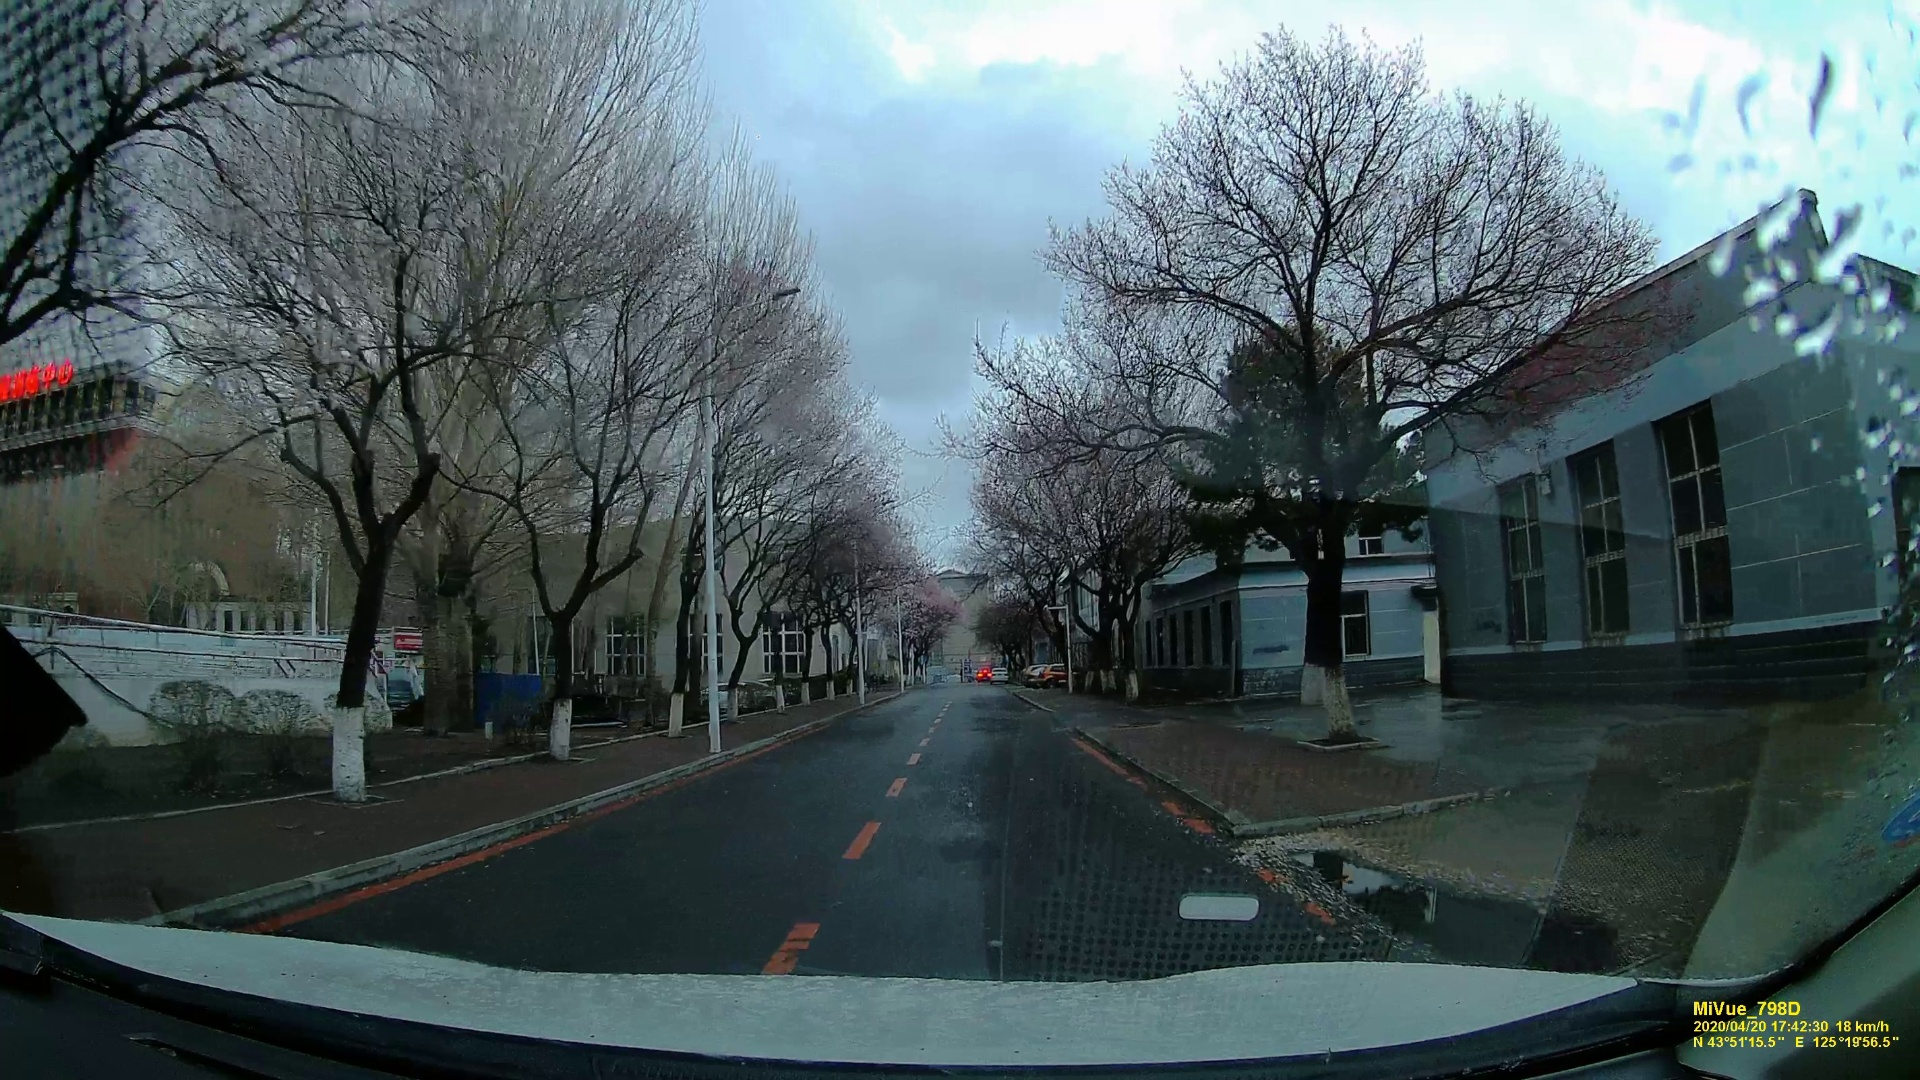vehicle: (1038, 663, 1068, 690), (990, 666, 1009, 684), (975, 667, 990, 683)
